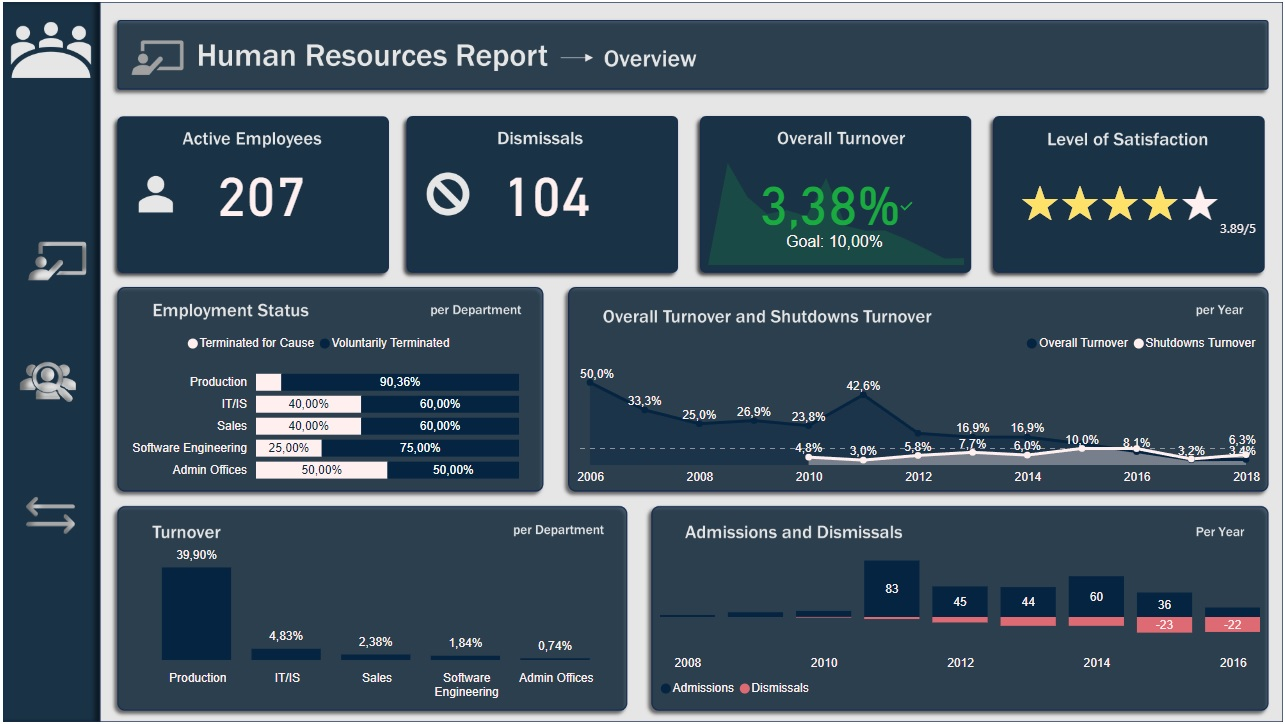

The dashboard page shown, as its layout file describes it:
{"tool":"powerbi","page":{"name":"Visão Geral","canvas":[1280,720],"ordinal":0},"visuals":[{"type":"card","fields":{"Values":["Tabela de Medidas.funcionários ativos"]},"box":[199.3,154.8,118,64.8],"z":0},{"type":"card","fields":{"Values":["Tabela de Medidas.Desligamentos"]},"box":[493.4,155.8,100.6,63.9],"z":1000},{"type":"kpi","fields":{"Indicator":["Tabela de Medidas.TurnoverGeral"],"Goal":["Tabela de Medidas.MetaTurnoverGeral"],"TrendLine":["Tb_Calendario.Ano"]},"box":[699.5,155.8,266.1,112.2],"z":2000},{"type":"hundredPercentStackedBarChart","fields":{"Category":["dDesligamentos.Department"],"Series":["dDesligamentos.EmploymentStatus"],"Y":["CountNonNull(dDesligamentos.TermReason)"]},"box":[114.2,322.2,406.3,169.3],"z":3000},{"type":"areaChart","fields":{"Y":["Tb_Medidas.TurnoverGeral","Tb_Medidas.TurnoverDesligamentos"],"Category":["Tb_Calendario.Ano"]},"box":[567.9,322.2,693.7,169.3],"z":4000},{"type":"columnChart","fields":{"Y":["Medidas.Admissões","Medidas.Desligamentos Valor Negativo"],"Category":["Tb_Calendario.Ano"]},"box":[652.1,533.1,609.5,172.2],"z":5000},{"type":"columnChart","fields":{"Category":["dContratacoes.Department"],"Y":["Medidas.turnoverGeral"]},"box":[104.5,524.4,525.4,180.9],"z":6000},{"type":"ratingsvisual001","fields":{"measure":["Medidas.satisfacaoFuncionarios"]},"box":[1008.1,155.8,253.5,112.2],"z":7000},{"type":"image","box":[9.7,336.7,69.7,85.1],"z":8000},{"type":"image","box":[16.4,479.9,62.9,66.8],"z":9000}]}

Visuals, with their boxes in screenshot pixels (x1, y1, x2, y2), scaled from the page's 1280x720 canvas onto the 1285x724 screenshot:
card - Tabela de Medidas.funcionários ativos: [left=200, top=156, right=319, bottom=221]
card - Tabela de Medidas.Desligamentos: [left=495, top=157, right=596, bottom=221]
kpi - Tabela de Medidas.TurnoverGeral x Tabela de Medidas.MetaTurnoverGeral: [left=702, top=157, right=969, bottom=269]
hundredPercentStackedBarChart - dDesligamentos.Department x dDesligamentos.EmploymentStatus: [left=115, top=324, right=523, bottom=494]
areaChart - Tb_Medidas.TurnoverGeral x Tb_Medidas.TurnoverDesligamentos: [left=570, top=324, right=1267, bottom=494]
columnChart - Medidas.Admissões x Medidas.Desligamentos Valor Negativo: [left=655, top=536, right=1267, bottom=709]
columnChart - dContratacoes.Department x Medidas.turnoverGeral: [left=105, top=527, right=632, bottom=709]
ratingsvisual001 - Medidas.satisfacaoFuncionarios: [left=1012, top=157, right=1267, bottom=269]
image: [left=10, top=339, right=80, bottom=424]
image: [left=16, top=483, right=80, bottom=550]
